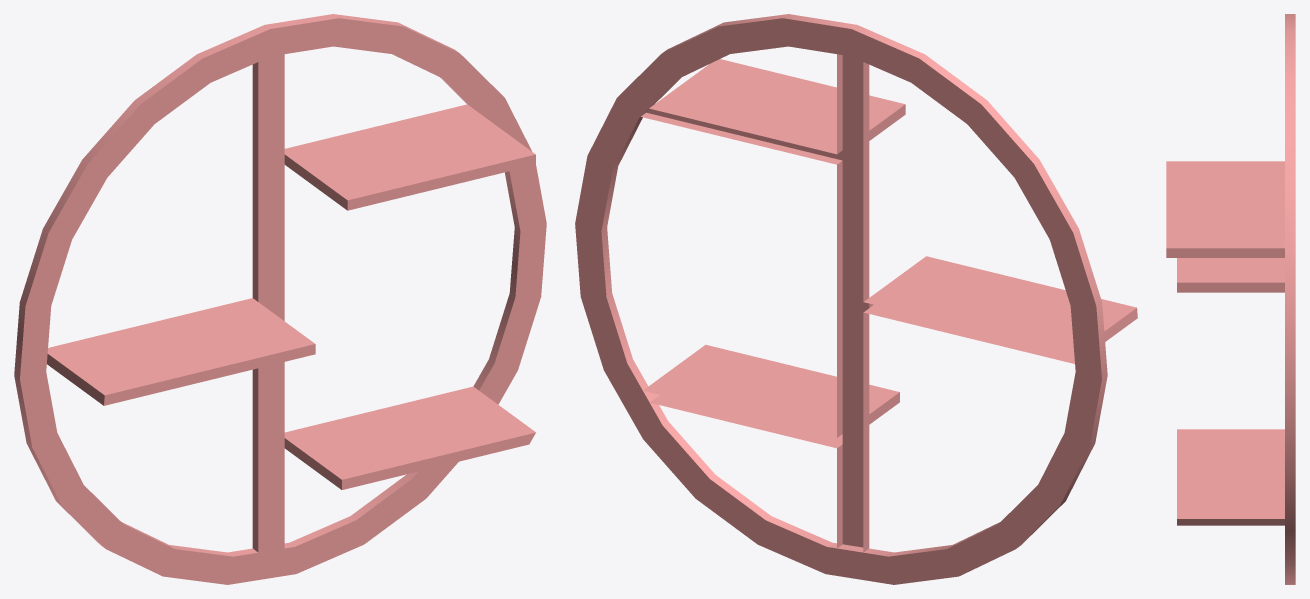
3 renders of one model, left to right at view 1: azimuth 30°, elevation 25°; view 2: azimuth 150°, elevation 25°; view 3: azimuth 270°, elevation 25°, orthographic. The views are drawn at different scales.
Visible parts, largest first — view 1: 30965; view 2: 30965; view 3: 30965.
Part boxes in pixels (left/top/right/bottom): 30965: left=14, top=14, right=546, bottom=584; 30965: left=575, top=14, right=1137, bottom=584; 30965: left=1166, top=14, right=1295, bottom=584.
Bounding box in the file's own units: 0.799 × 0.799 × 0.18.
